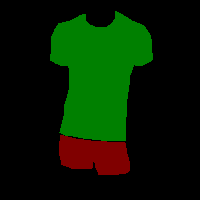abbigliamento: (50, 10, 153, 141)
mutande: (59, 134, 130, 175)
